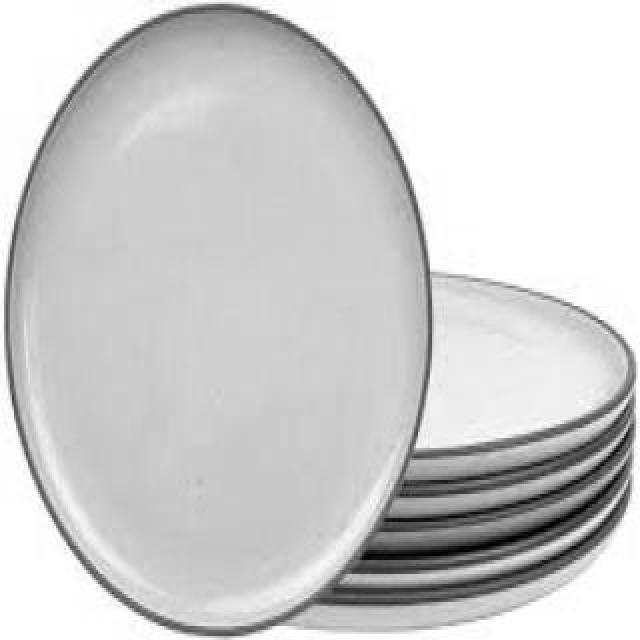plate: (10, 7, 452, 633)
